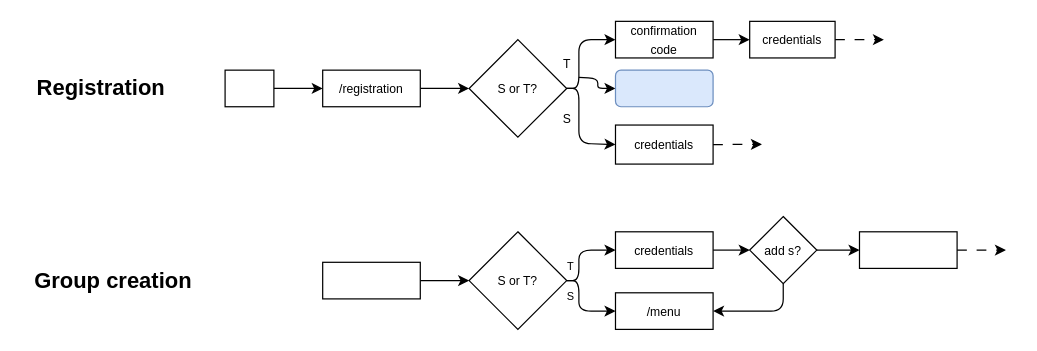
Image size: 1037x351. Some labels were removed from this diagram. Each missing label, with the centre of its shape:
/add_group: pixel 370 280
/add_students: pixel 907 249
/start: pixel 249 88
confirmation code to admin: pixel 663 88
